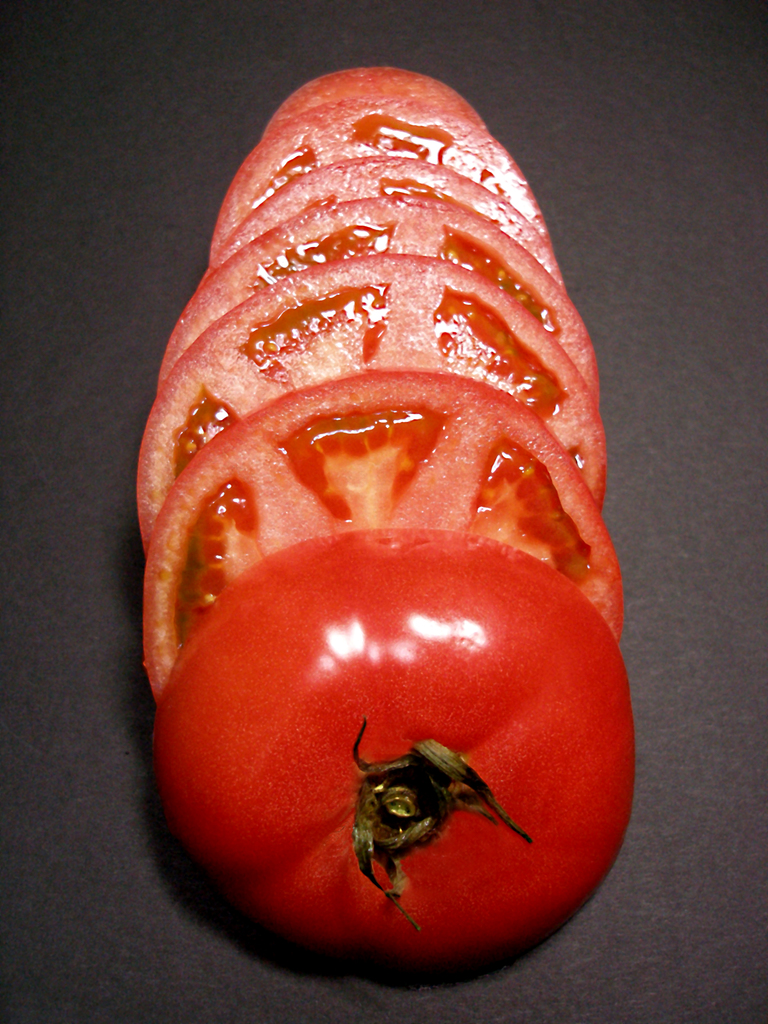Tomato: (136, 63, 612, 689), (144, 519, 628, 988)
